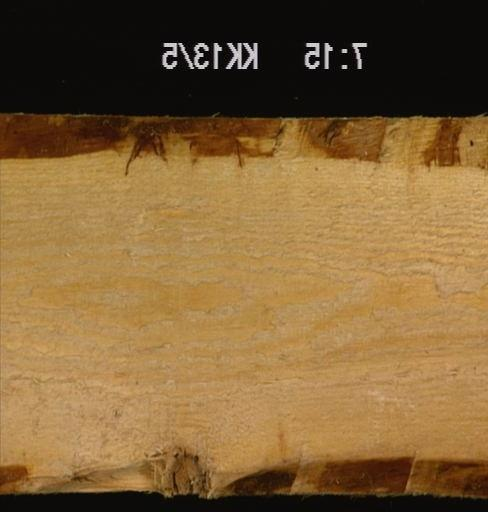wave: (0, 115, 486, 169), (0, 440, 486, 493)
